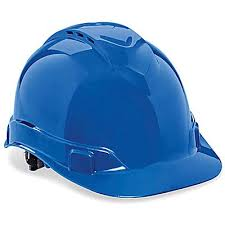Casco de seguridad: (2, 12, 225, 202)
